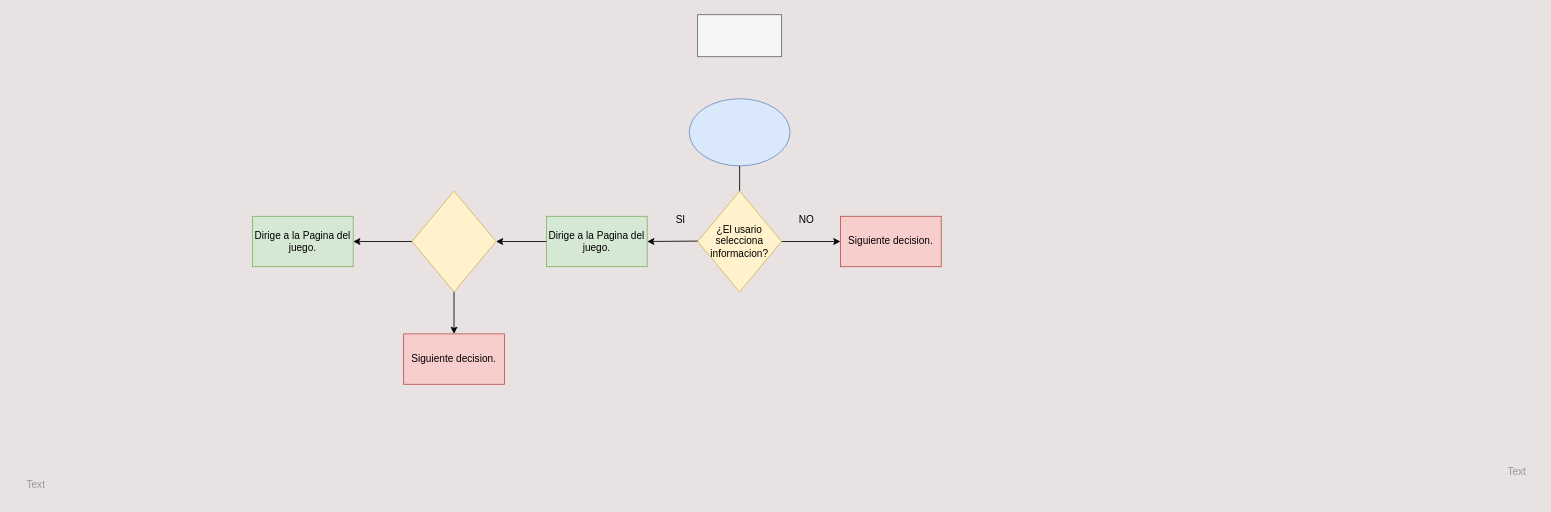
This 1551x512 diagram has some shape labels left out. The shapes that lost their labels are listed below. From the top down, each one's box as (x1, y1, x2, y2) in pixels, then its label:
(697, 14, 782, 57): Diagrama Navegacion Lista de Juegos
(688, 98, 790, 166): INICIO
(411, 190, 496, 292): Interactua con el juego
